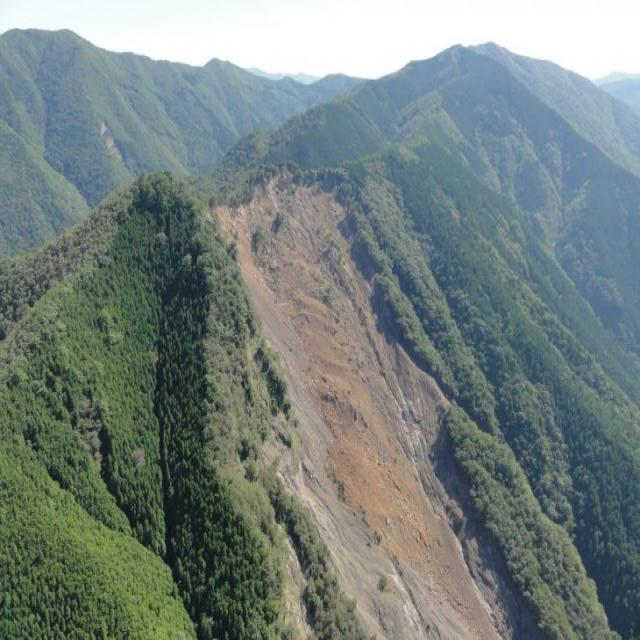Debris-flow: (212, 175, 539, 638)
